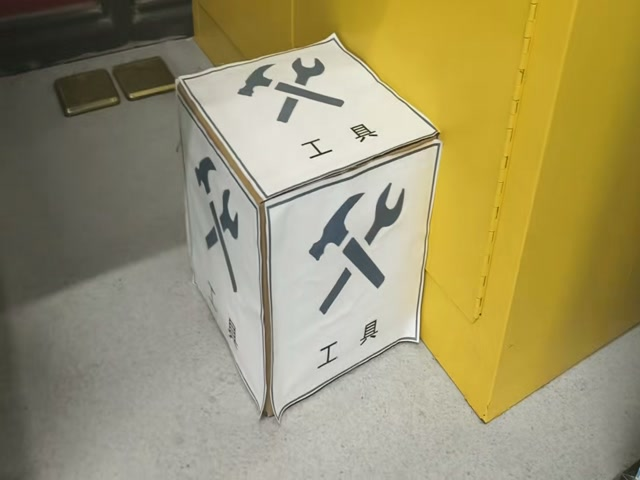Cube_tool: (175, 36, 438, 204)
